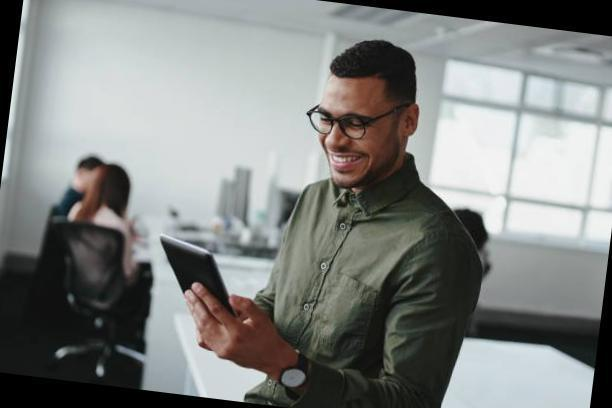Sober: (320, 88, 387, 179)
